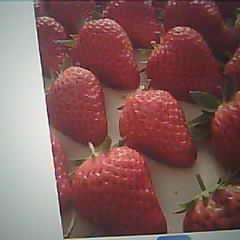straw-ripe: (72, 147, 168, 235), (117, 90, 195, 167), (150, 26, 222, 98), (74, 19, 139, 89), (49, 67, 107, 144)
